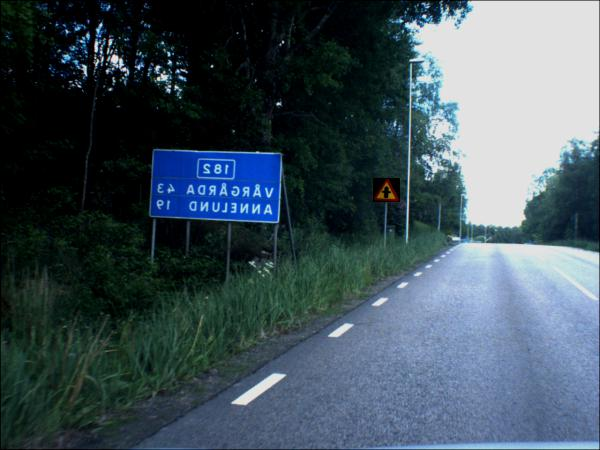WARNING: (373, 179, 401, 204)
